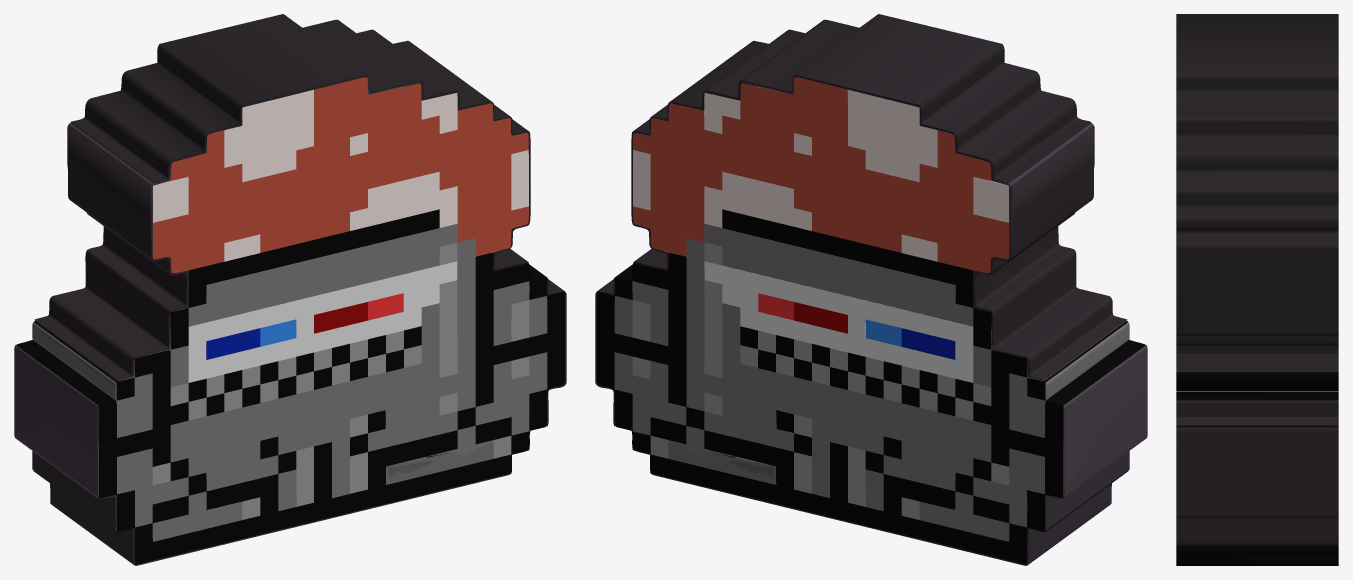
The model's file is Toadz_2450.glb.
3 views of the same model, side by side, from view 1: azimuth 30°, elevation 25°; view 2: azimuth 150°, elevation 25°; view 3: azimuth 270°, elevation 25° (orthographic). The views are drawn at different scales.
Visible parts, largest first — view 1: Curve; view 2: Curve; view 3: Curve.
Boxes of the visible parts, x1=… form: Curve: x1=14, y1=14, x2=566, y2=565; Curve: x1=595, y1=14, x2=1147, y2=565; Curve: x1=1176, y1=14, x2=1338, y2=565.
Bounding box in the file's own units: 3.26 × 2.89 × 1.
